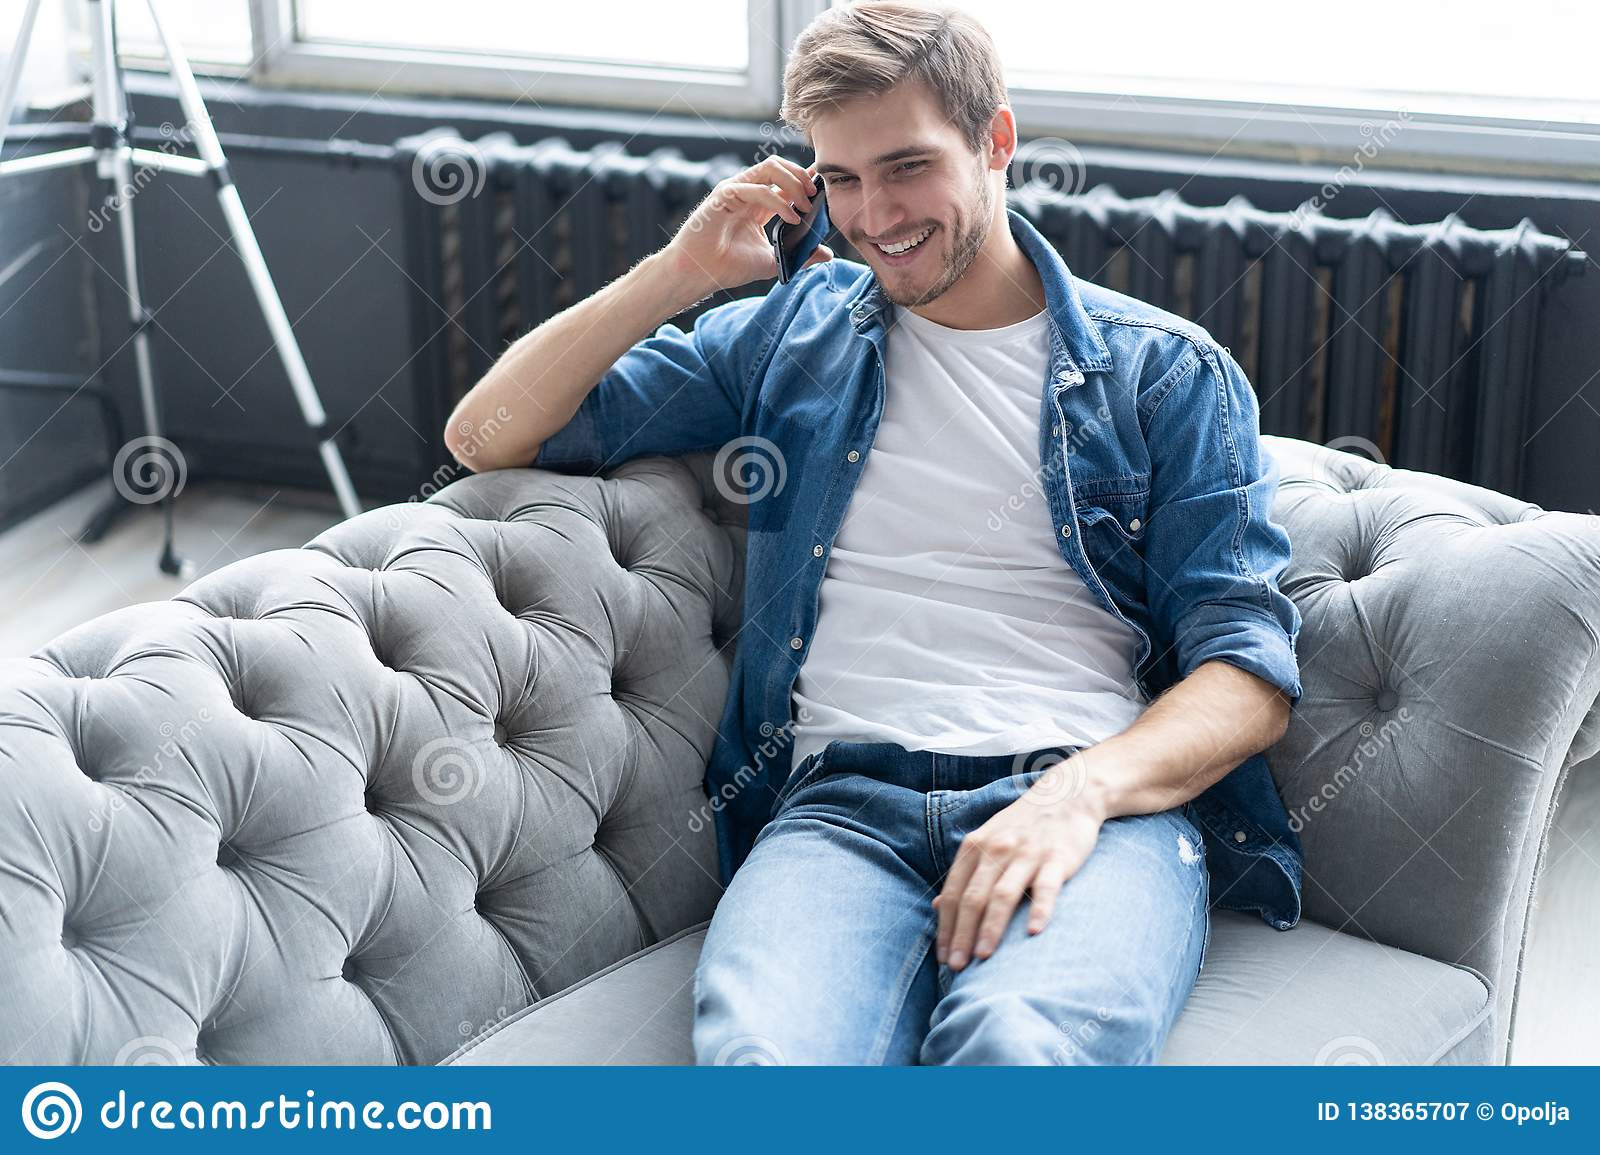phone: (771, 168, 831, 288)
talk: (678, 140, 965, 307)
